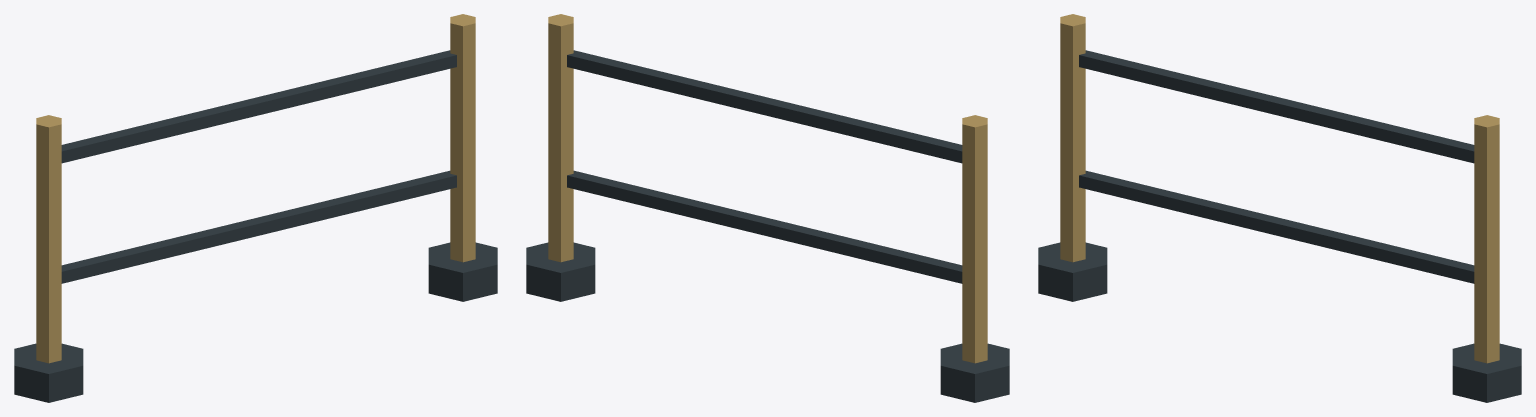
File: VIC_A08_BARRIER_4_Roblox.fbx
The picture shows the model from 3 angles, left to right: view 1: azimuth 30°, elevation 25°; view 2: azimuth 150°, elevation 25°; view 3: azimuth 330°, elevation 25°; orthographic projection.
Parts seen in each view (by area): view 1: VIC_A08_BARRIER_4__Charcoal, VIC_A08_BARRIER_4__Brass; view 2: VIC_A08_BARRIER_4__Charcoal, VIC_A08_BARRIER_4__Brass; view 3: VIC_A08_BARRIER_4__Charcoal, VIC_A08_BARRIER_4__Brass.
Boxes of the visible parts, x1,y1,x2,y2 form: VIC_A08_BARRIER_4__Charcoal: (14, 50, 497, 402); VIC_A08_BARRIER_4__Brass: (36, 14, 475, 363); VIC_A08_BARRIER_4__Charcoal: (526, 50, 1009, 402); VIC_A08_BARRIER_4__Brass: (548, 14, 987, 363); VIC_A08_BARRIER_4__Charcoal: (1038, 50, 1521, 402); VIC_A08_BARRIER_4__Brass: (1060, 14, 1499, 363).
Size of the model in its own units: 4.2 by 2.2 by 0.5196.
